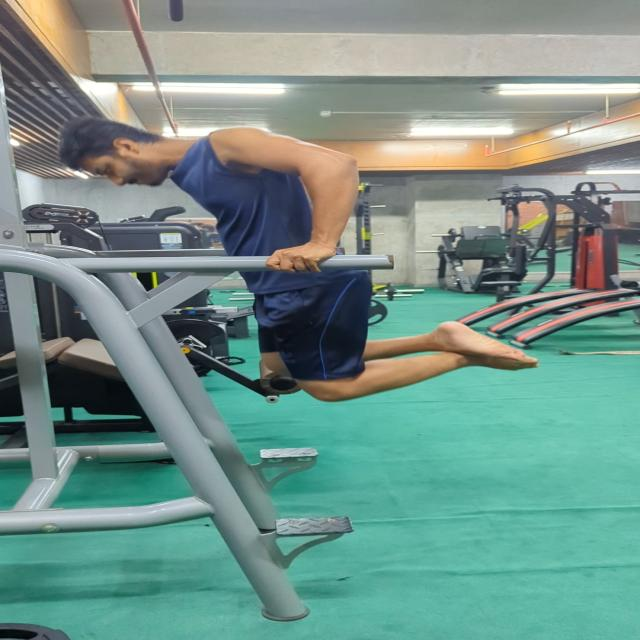Normal_Dips: (53, 104, 551, 414)
